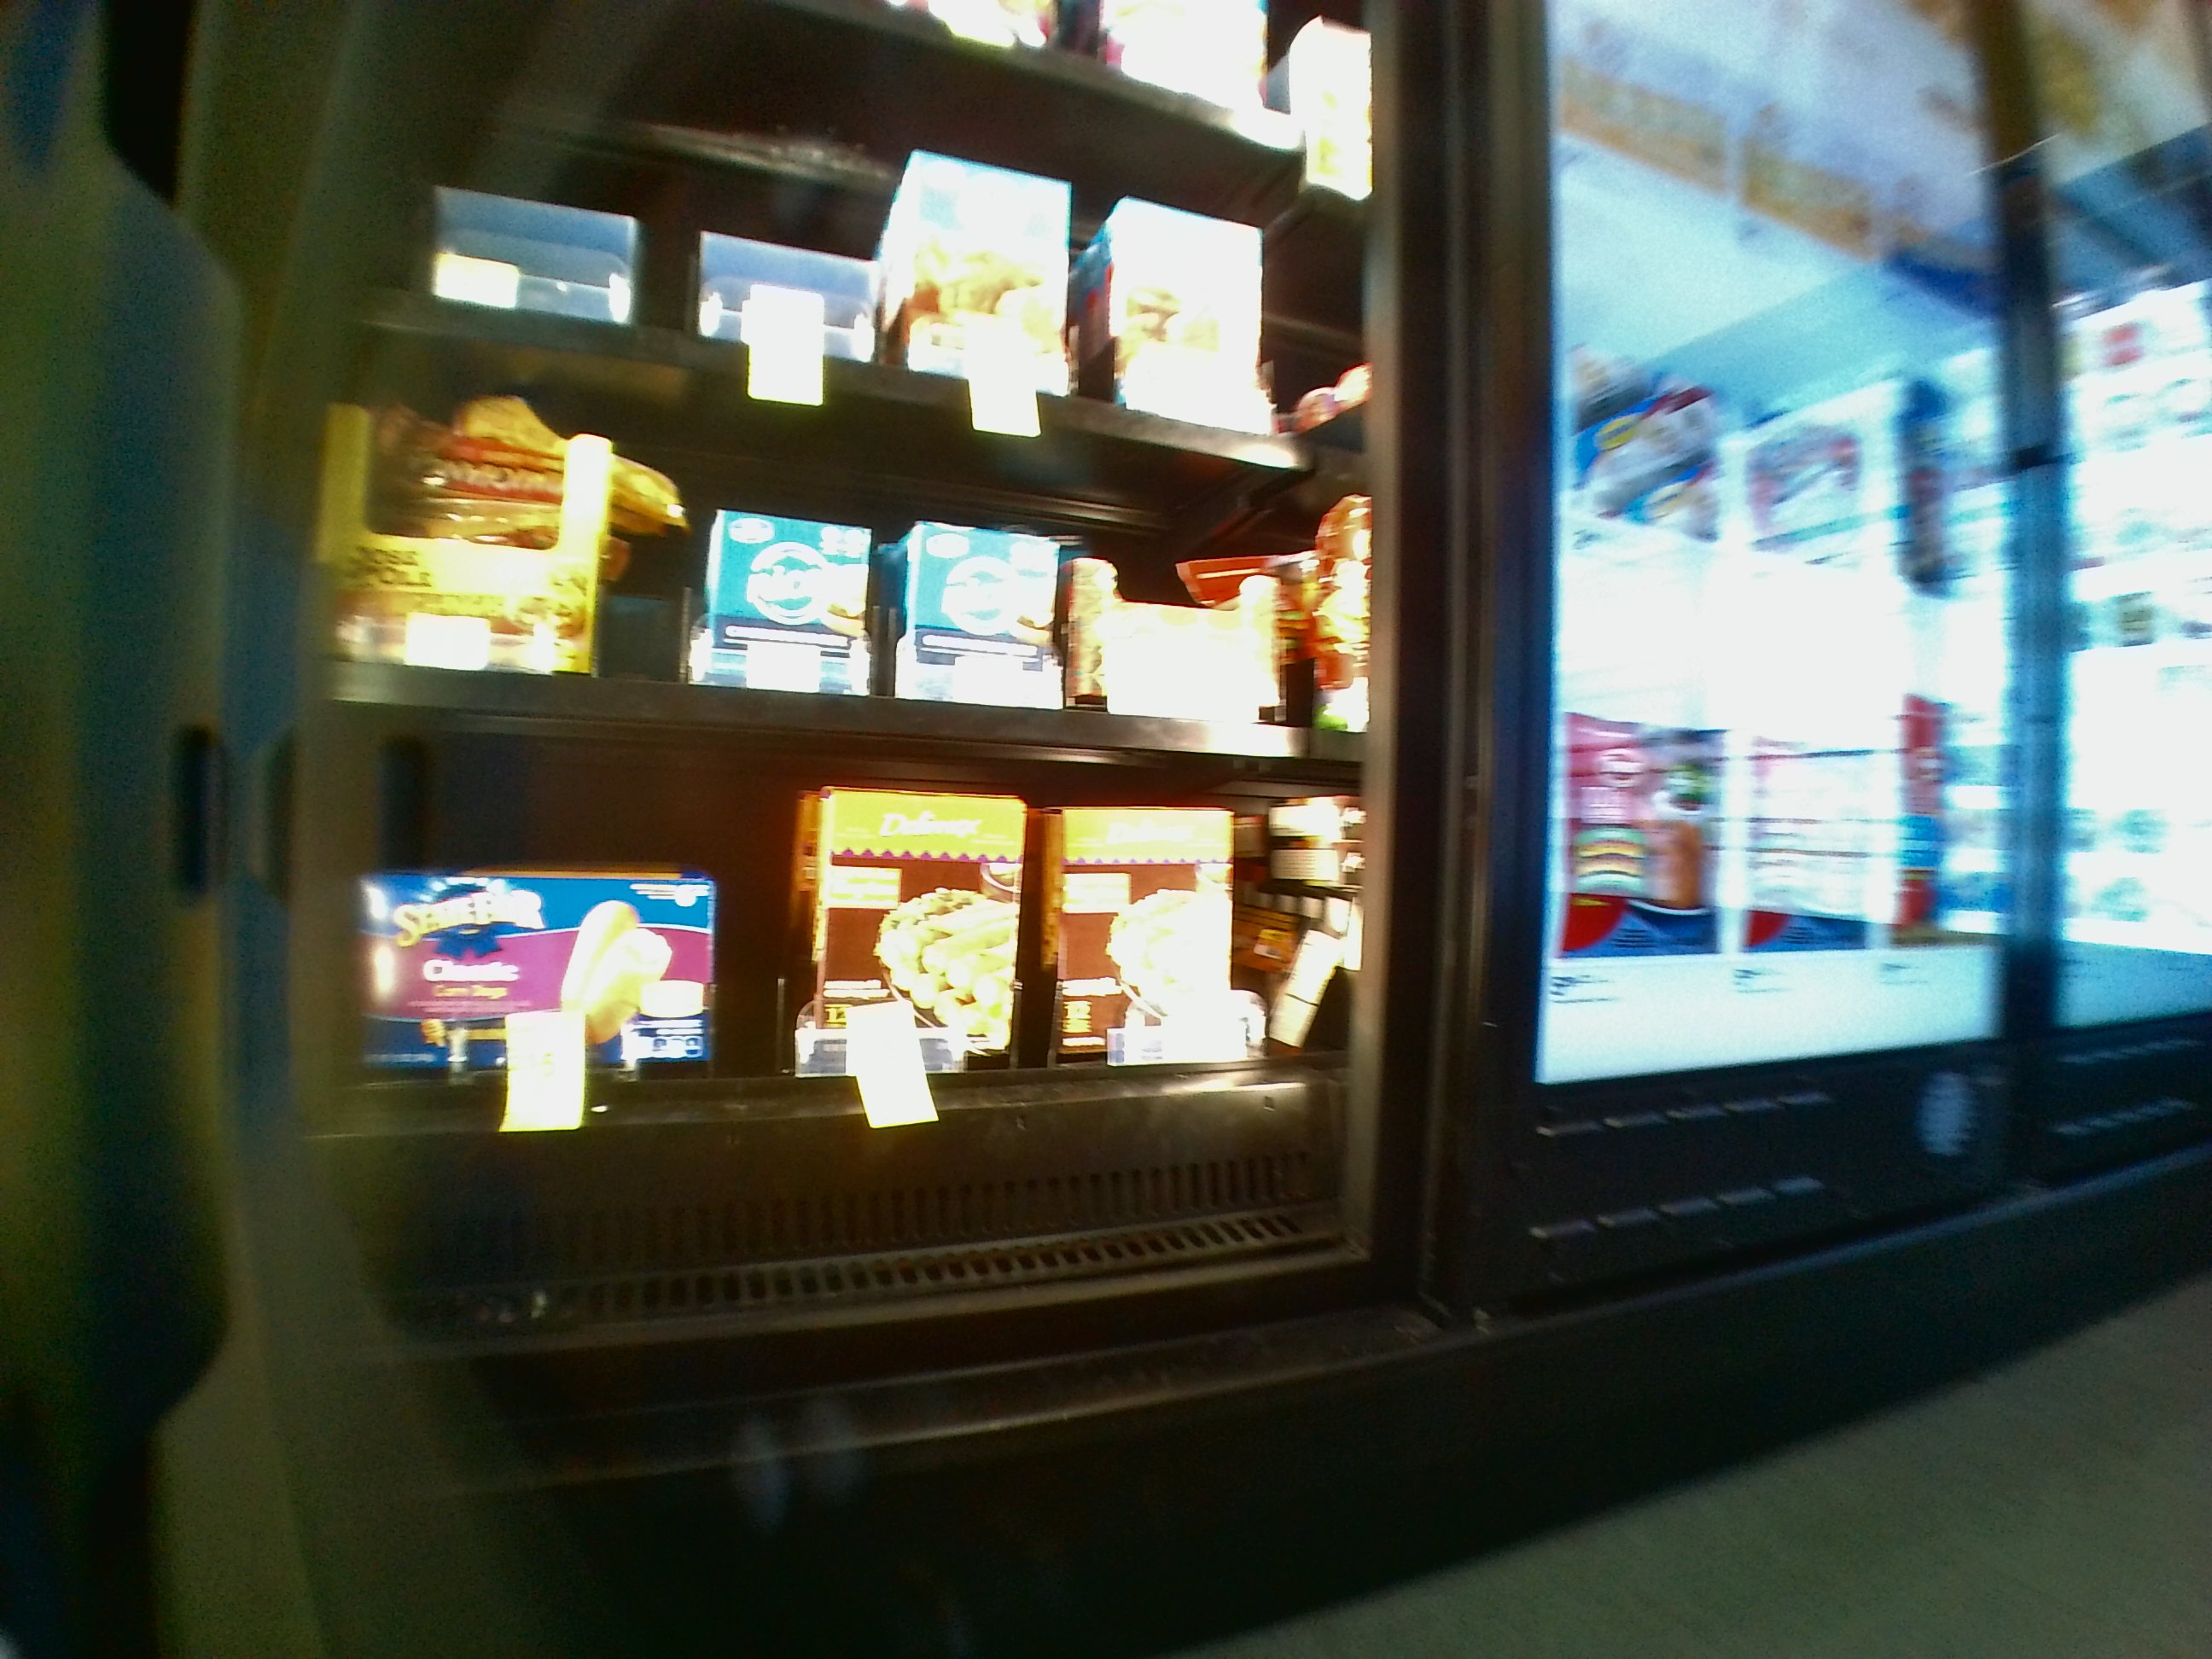shelf: (326, 713, 1359, 1246)
